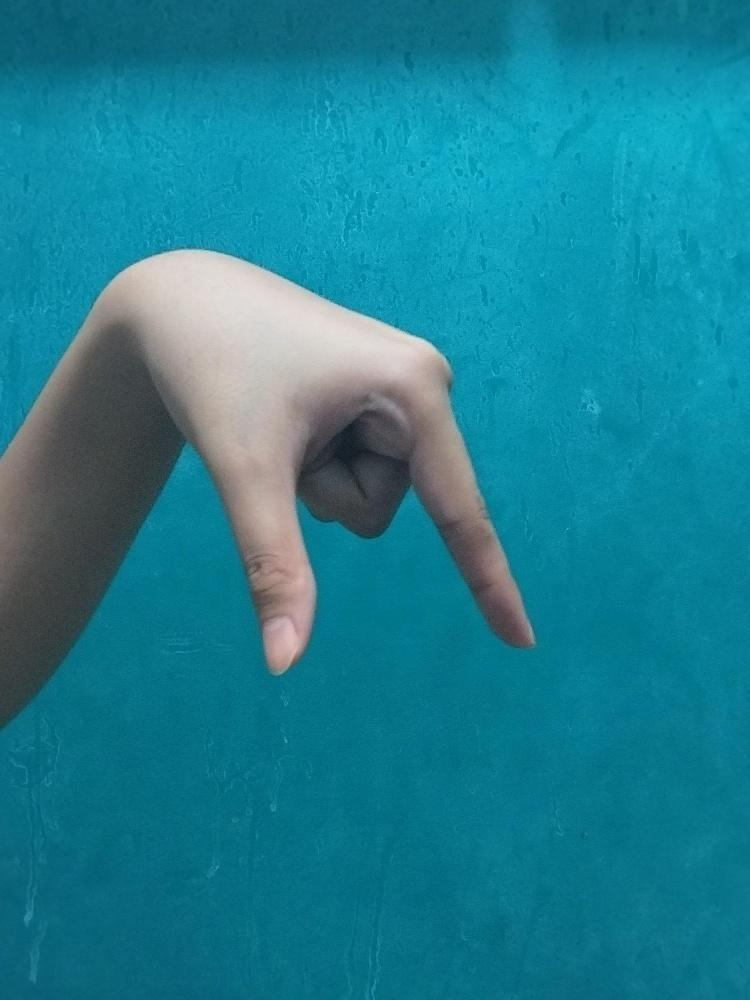q: (117, 244, 539, 683)
